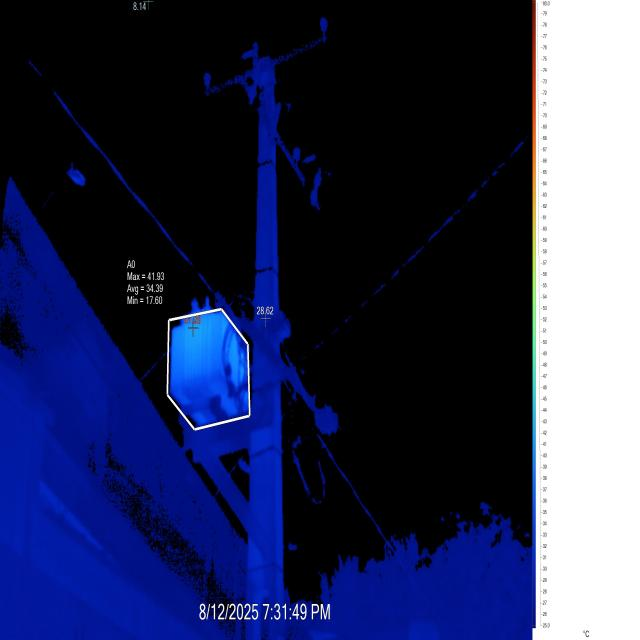Transformer: (19, 15, 528, 595)
